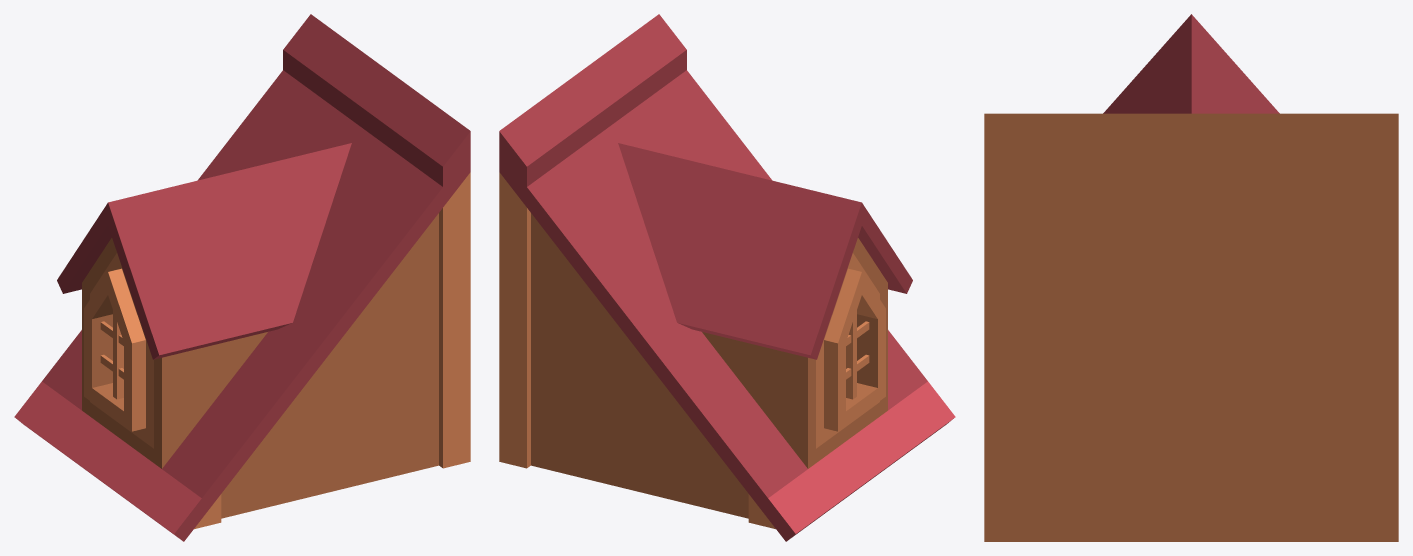
Rendered from roofHighWindow.fbx.
3 views of the same model, side by side, from view 1: azimuth 30°, elevation 25°; view 2: azimuth 150°, elevation 25°; view 3: azimuth 270°, elevation 25° (orthographic). The views are drawn at different scales.
Visible parts, largest first — view 1: roofHighWindow; view 2: roofHighWindow; view 3: roofHighWindow.
Boxes of the visible parts, x1,y1,x2,y2 form: roofHighWindow: (14,14,470,541); roofHighWindow: (499,14,955,541); roofHighWindow: (984,14,1398,541).
Bounding box in the file's own units: 10.71 × 11.76 × 10.
